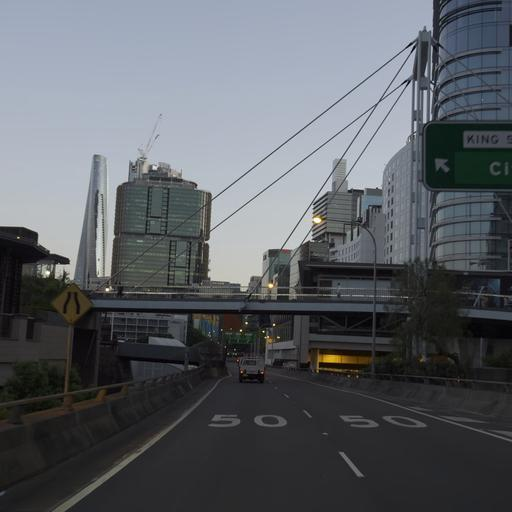Street light: (311, 213, 377, 374), (266, 281, 274, 297)
